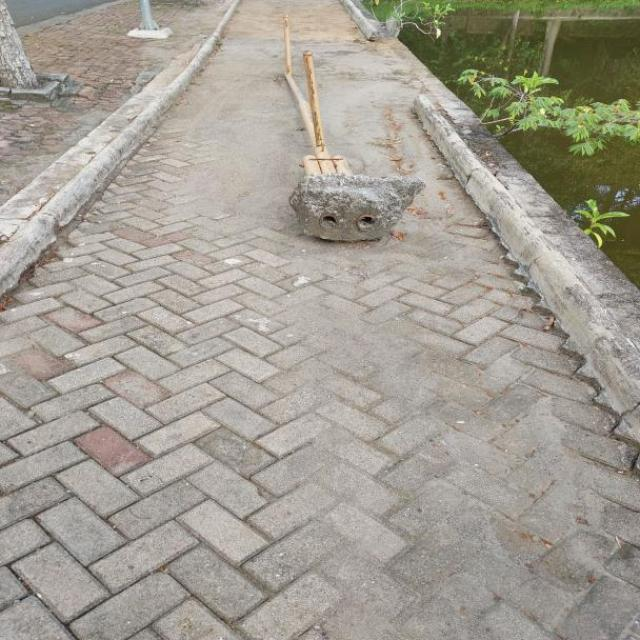stones ahead at: (279, 150, 426, 249)
